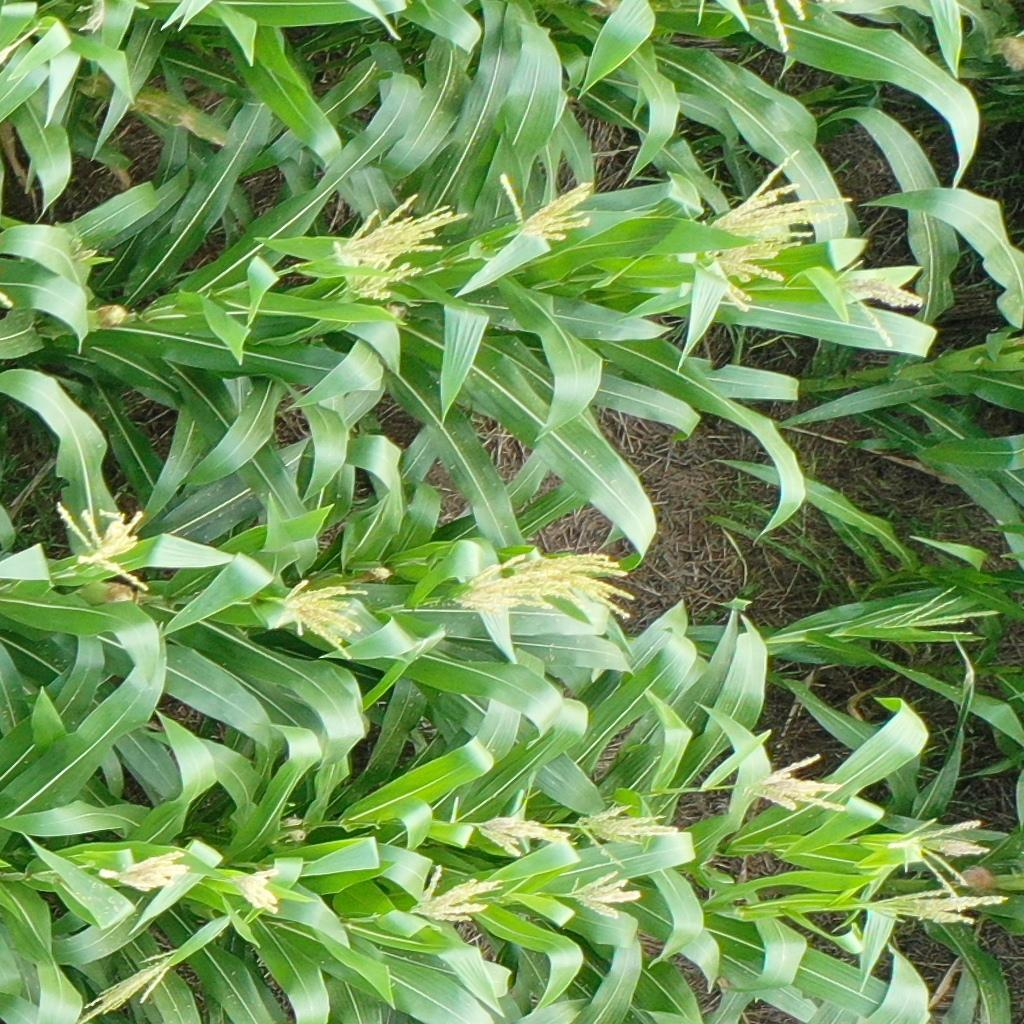Tassel: (707, 150, 850, 239), (275, 571, 378, 667), (893, 809, 990, 904), (56, 498, 158, 586), (441, 547, 555, 621), (834, 259, 922, 348), (857, 880, 1011, 930), (345, 193, 470, 254), (526, 544, 633, 615), (577, 798, 683, 869), (880, 583, 1000, 645), (709, 234, 802, 314), (499, 168, 596, 240), (743, 752, 848, 818), (80, 950, 172, 1024), (410, 862, 501, 926), (331, 243, 424, 302), (474, 809, 574, 862), (99, 848, 192, 896), (569, 870, 646, 923), (239, 861, 288, 921), (768, 1, 807, 49), (80, 1, 107, 34), (71, 239, 98, 266)
